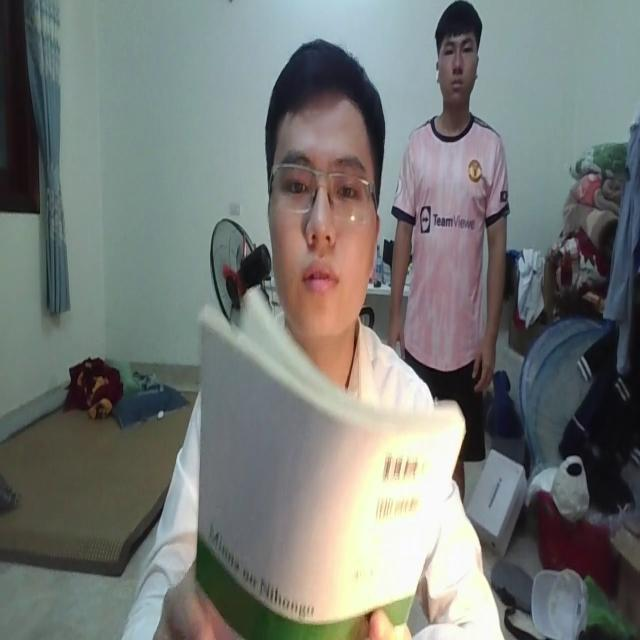book: (193, 290, 460, 640)
extra_person: (386, 0, 508, 441)
student: (128, 33, 498, 640)
